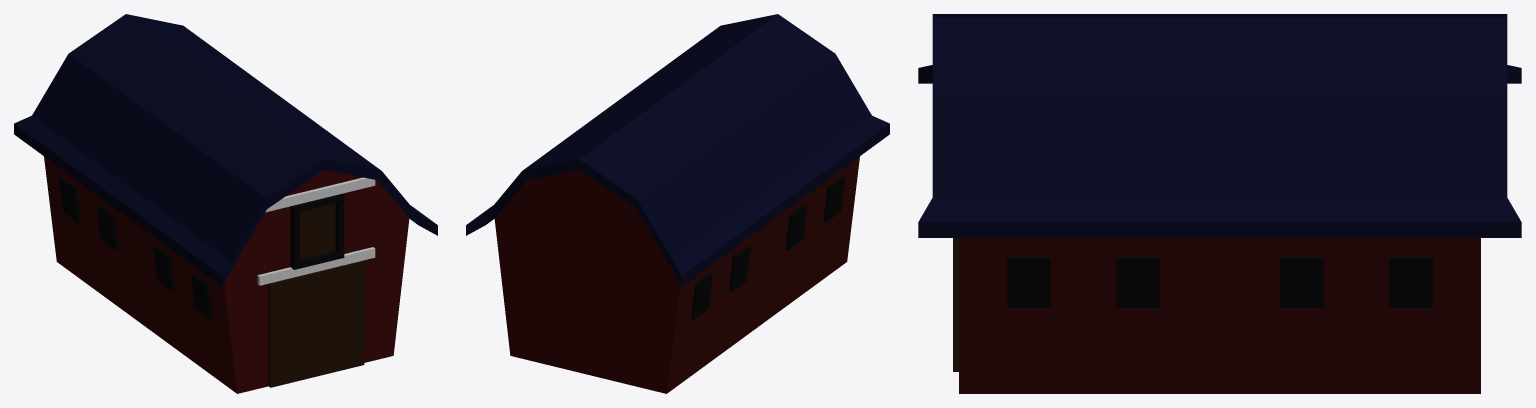
File: barn.fbx
3 renders of one model, left to right at view 1: azimuth 30°, elevation 25°; view 2: azimuth 150°, elevation 25°; view 3: azimuth 270°, elevation 25°, orthographic. The views are drawn at different scales.
Visible parts, largest first — view 1: barn; view 2: barn; view 3: barn.
Part boxes in pixels (x1,y1,x2,y2): barn: [14, 14, 437, 393]; barn: [466, 14, 889, 393]; barn: [918, 14, 1521, 393].
Size of the model in its own units: 1378 by 1358 by 2311.
